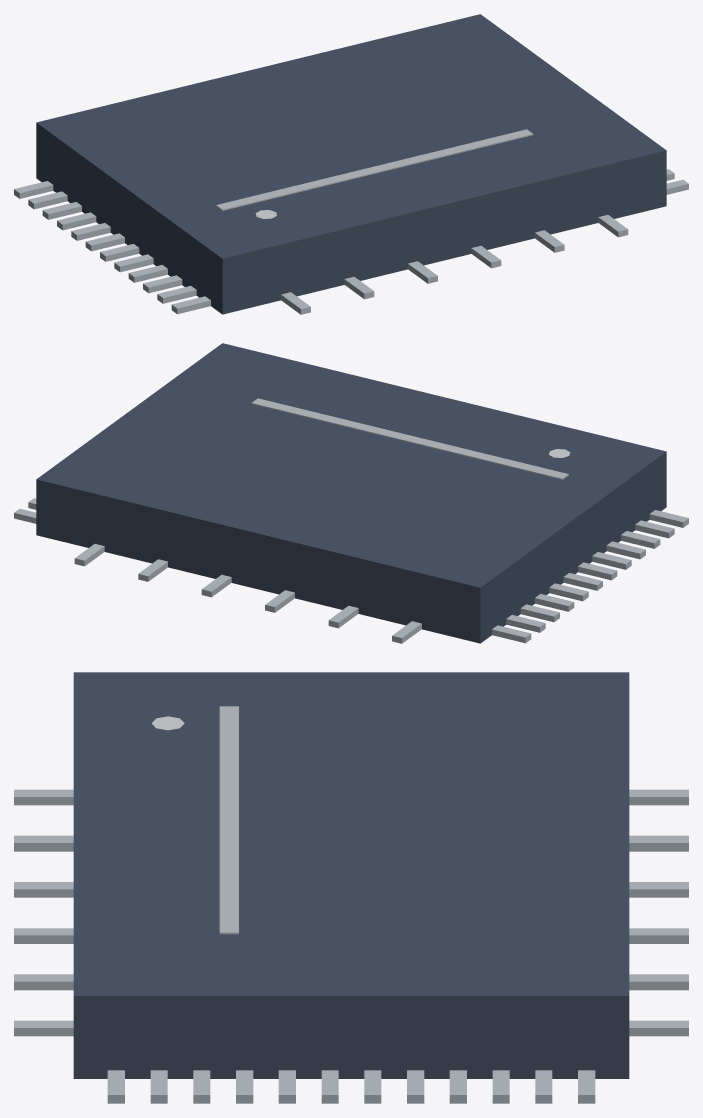
3 renders of one model, top to bottom at view 1: azimuth 30°, elevation 25°; view 2: azimuth 150°, elevation 25°; view 3: azimuth 270°, elevation 25°, orthographic. The views are drawn at different scales.
Parts seen in each view (by area): view 1: part0000__PSMAT__IC_Epoxy, part0001__PSMAT__IC_Laser; view 2: part0000__PSMAT__IC_Epoxy, part0001__PSMAT__IC_Laser; view 3: part0000__PSMAT__IC_Epoxy, part0001__PSMAT__IC_Laser, part0027__PSMAT__Tin_Solder, part0028__PSMAT__Tin_Solder, part0031__PSMAT__Tin_Solder, part0032__PSMAT__Tin_Solder, part0033__PSMAT__Tin_Solder, part0034__PSMAT__Tin_Solder, part0037__PSMAT__Tin_Solder, part0038__PSMAT__Tin_Solder, part0029__PSMAT__Tin_Solder, part0030__PSMAT__Tin_Solder (+2 smaller).
Part boxes in pixels (<box>): part0000__PSMAT__IC_Epoxy: <box>36,14,666,314</box>; part0001__PSMAT__IC_Laser: <box>216,129,533,210</box>; part0000__PSMAT__IC_Epoxy: <box>36,343,666,643</box>; part0001__PSMAT__IC_Laser: <box>251,398,568,479</box>; part0000__PSMAT__IC_Epoxy: <box>73,672,629,1078</box>; part0001__PSMAT__IC_Laser: <box>219,706,238,934</box>; part0027__PSMAT__Tin_Solder: <box>629,789,688,805</box>; part0028__PSMAT__Tin_Solder: <box>629,835,688,851</box>; part0031__PSMAT__Tin_Solder: <box>629,974,688,990</box>; part0032__PSMAT__Tin_Solder: <box>629,1020,688,1036</box>; part0033__PSMAT__Tin_Solder: <box>14,789,73,805</box>; part0034__PSMAT__Tin_Solder: <box>14,835,73,851</box>; part0037__PSMAT__Tin_Solder: <box>14,974,73,990</box>; part0038__PSMAT__Tin_Solder: <box>14,1020,73,1036</box>; part0029__PSMAT__Tin_Solder: <box>629,882,688,897</box>; part0030__PSMAT__Tin_Solder: <box>629,928,688,943</box>.
Size of the model in its own units: 0.0206 by 0.00225 by 0.0158.
